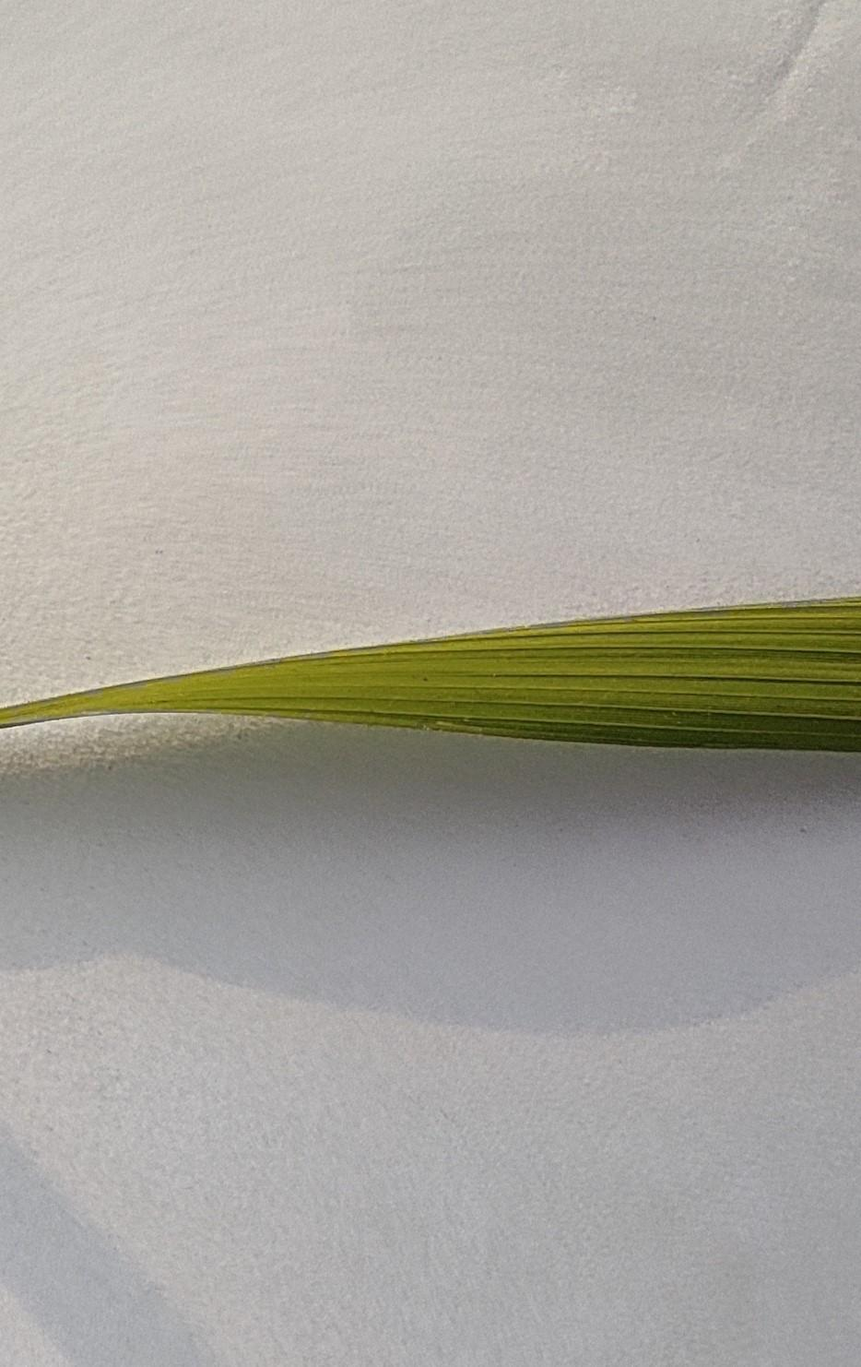Healthy: (0, 599, 860, 752)
